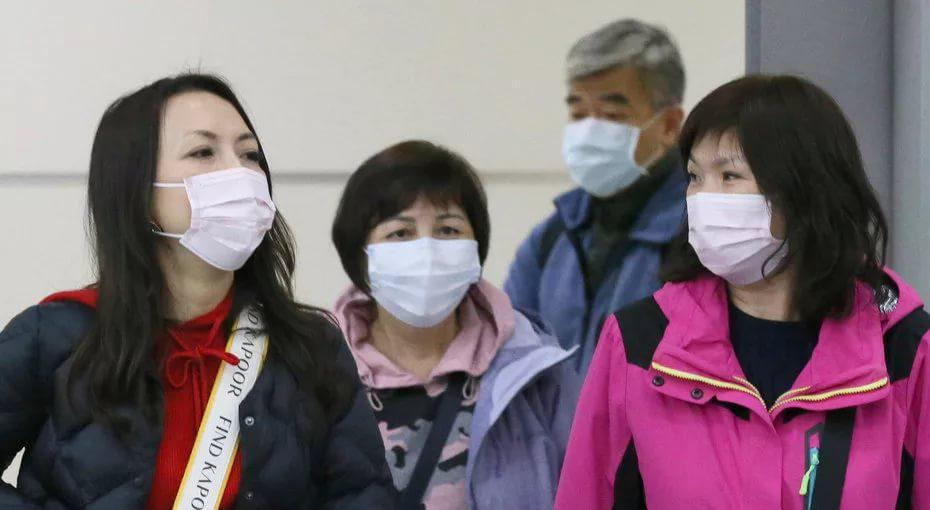mask: (163, 97, 275, 267), (681, 127, 780, 279), (369, 191, 477, 320), (567, 59, 665, 192)
